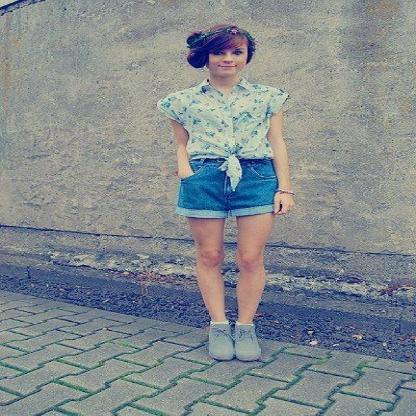shirt: (156, 78, 294, 191)
shoe: (205, 320, 260, 360)
shorts: (176, 158, 281, 222)
